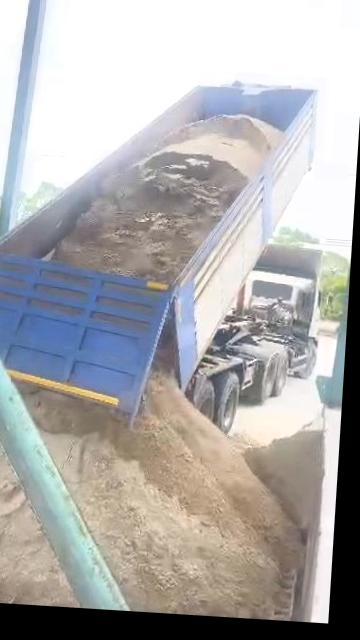sand: (26, 379, 302, 619), (53, 115, 281, 282), (0, 385, 75, 607), (245, 419, 321, 556), (152, 316, 176, 380), (283, 568, 304, 619), (230, 433, 263, 452)
